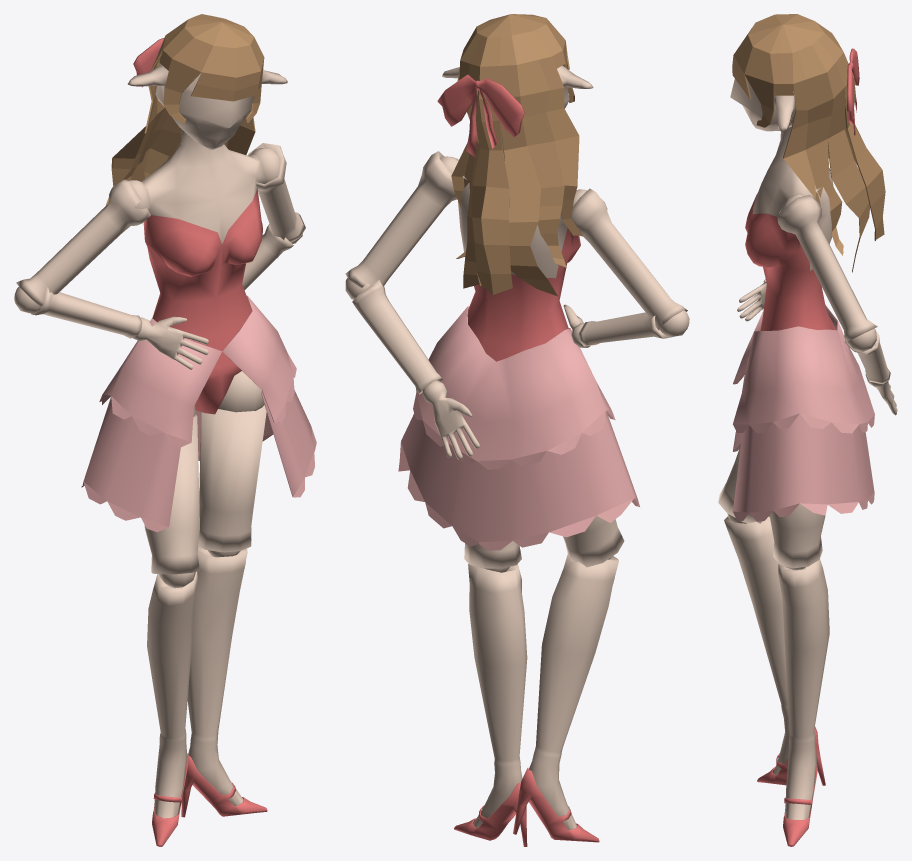
Rendered from Lust.fbx.
The picture shows the model from 3 angles, left to right: view 1: azimuth 30°, elevation 25°; view 2: azimuth 150°, elevation 25°; view 3: azimuth 270°, elevation 25°; orthographic projection. The views are drawn at different scales.
Parts seen in each view (by area): view 1: Body, Hair, Dress, dress2, L_Foot, R_Foot, L_Leg, R_Arm, R_Leg, Head, R_Arm2, L_Arm (+5 smaller); view 2: Hair, dress2, Dress, R_Foot, L_Foot, Body, L_Arm, R_Arm, L_Arm2, Head_DECO, L_Hand, R_Shoes (+5 smaller); view 3: Hair, Dress, dress2, Body, L_Foot, R_Foot, L_Arm, L_Leg, Head, L_Arm2, L_Shoes, R_Leg (+5 smaller).
Boxes of the visible parts, box(x1,y1,x2,y2) form: Body: box(127, 130, 280, 414); Hair: box(105, 14, 264, 205); Dress: box(99, 295, 296, 447); dress2: box(81, 390, 316, 532); L_Foot: box(187, 546, 247, 806); R_Foot: box(147, 571, 197, 818); L_Leg: box(198, 405, 266, 552); R_Arm: box(16, 179, 150, 306); R_Leg: box(144, 414, 199, 574); Head: box(127, 64, 287, 150); R_Arm2: box(31, 287, 142, 338); L_Arm: box(248, 143, 305, 242); Hair: box(451, 14, 582, 296); dress2: box(398, 411, 639, 550); Dress: box(413, 306, 615, 469); R_Foot: box(529, 552, 618, 829); L_Foot: box(468, 564, 527, 827); Body: box(439, 128, 587, 361); L_Arm: box(345, 151, 457, 287); R_Arm: box(571, 188, 687, 330); L_Arm2: box(352, 279, 442, 394); Head_DECO: box(437, 74, 524, 157); L_Hand: box(422, 380, 479, 459); R_Shoes: box(513, 768, 599, 842); Hair: box(732, 14, 885, 272); Dress: box(733, 304, 874, 433); dress2: box(733, 357, 874, 521); Body: box(745, 126, 836, 330); L_Foot: box(778, 559, 829, 819); R_Foot: box(724, 516, 789, 775); L_Arm: box(777, 195, 877, 341); L_Leg: box(770, 504, 825, 568); Head: box(730, 79, 795, 132); L_Arm2: box(844, 331, 890, 384); L_Shoes: box(783, 764, 817, 846); R_Leg: box(718, 444, 769, 523).
Bounding box in the file's own units: 69.11 × 172 × 35.
